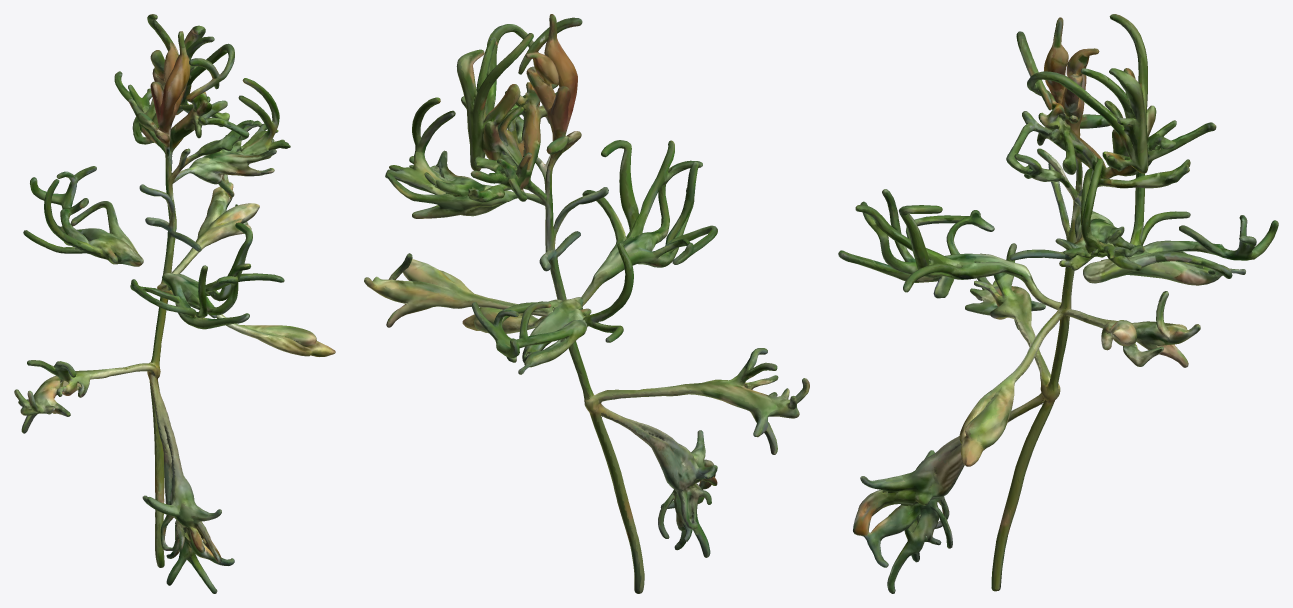
Rendered from bank-grass.glb.
The picture shows the model from 3 angles, left to right: view 1: azimuth 30°, elevation 25°; view 2: azimuth 150°, elevation 25°; view 3: azimuth 270°, elevation 25°; orthographic projection. The views are drawn at different scales.
Parts seen in each view (by area): view 1: geometry_0; view 2: geometry_0; view 3: geometry_0.
Boxes of the visible parts, x1,y1,x2,y2 form: geometry_0: (14,14,335,593); geometry_0: (364,14,809,593); geometry_0: (838,14,1278,593).
Size of the model in its own units: 0.2221 by 0.3499 by 0.2324.
1 material, 1 textured.
